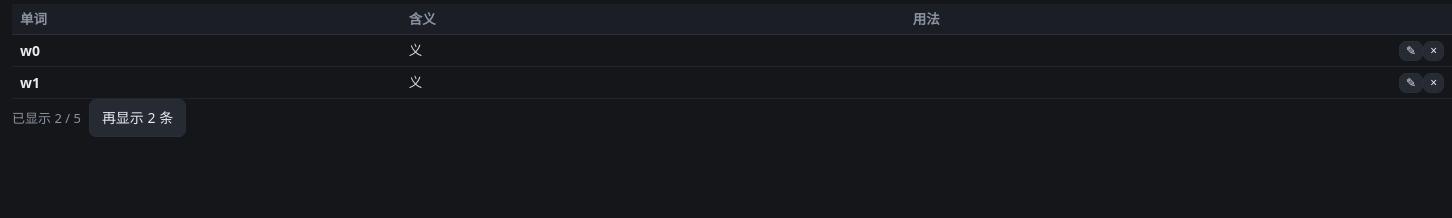
Test: VocabList：全部生词分页 › 表格视图也分页
This screenshot has width=1452, height=218.
Expected: the button named "删除词条 w1" is shown, [1423,73,1444,93]
Click the button "再显示 2 条" at (138, 118), box [89,99,186,137]
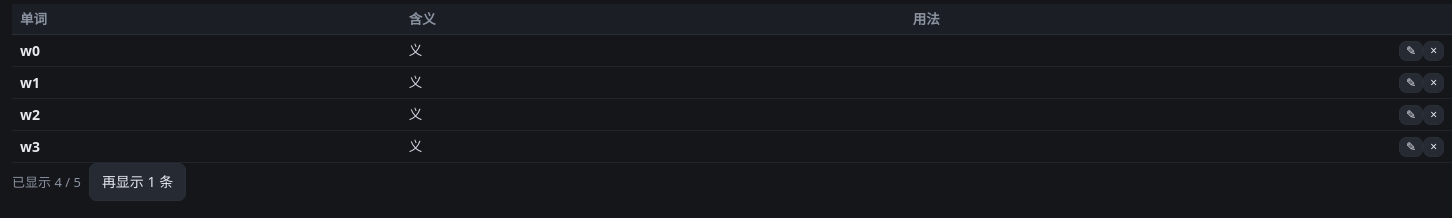
Expected: the button named "删除词条 w2" is shown, [1423,105,1444,125]
